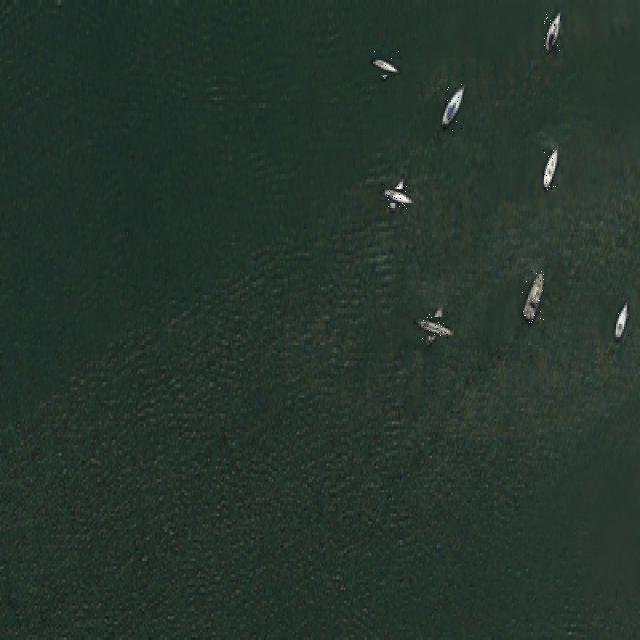boat: (522, 269, 544, 324), (440, 84, 462, 134), (418, 311, 449, 342), (373, 51, 400, 78), (382, 183, 410, 209), (544, 13, 560, 55), (613, 300, 629, 342), (542, 150, 558, 190)
